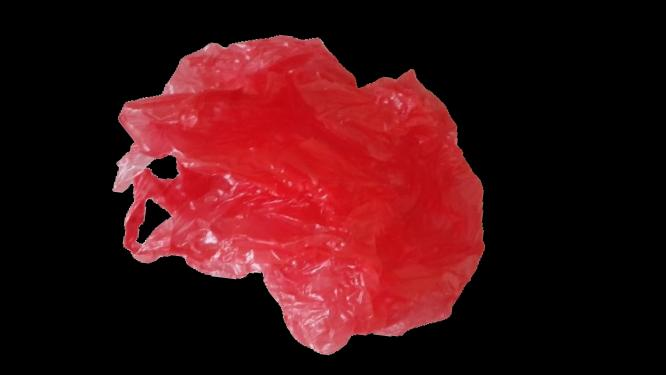Plastik: (84, 7, 513, 375)
